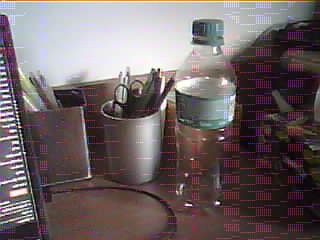plastic: (175, 21, 238, 208)
